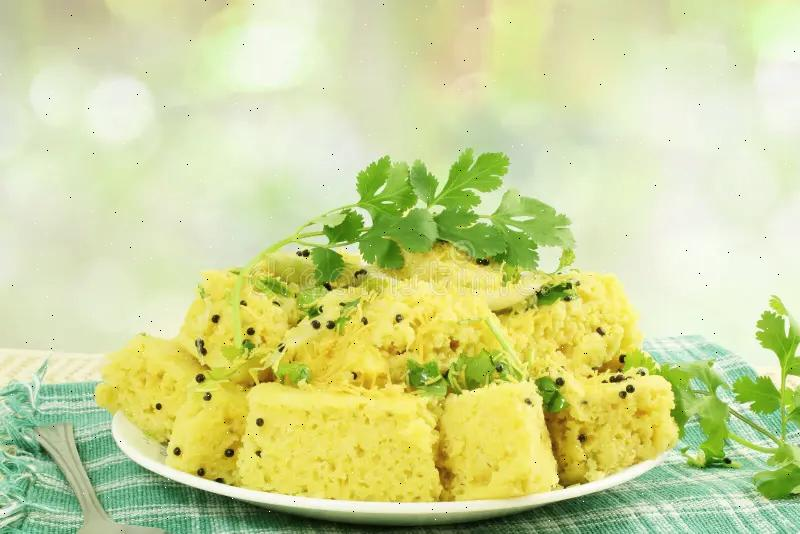yellow dhokla: (85, 230, 698, 508)
